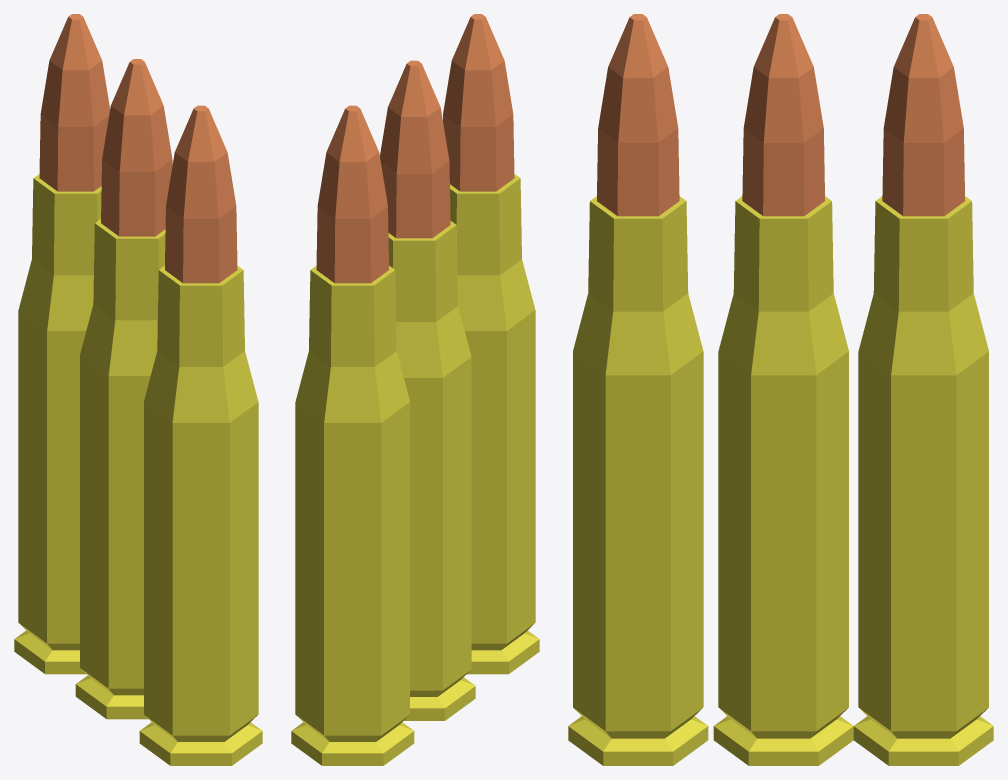
The model's file is Bullet.fbx.
The picture shows the model from 3 angles, left to right: view 1: azimuth 30°, elevation 25°; view 2: azimuth 150°, elevation 25°; view 3: azimuth 270°, elevation 25°; orthographic projection. The views are drawn at different scales.
Parts seen in each view (by area): view 1: Cylinder; view 2: Cylinder; view 3: Cylinder.
Boxes of the visible parts, x1,y1,x2,y2 form: Cylinder: (14, 14, 262, 765); Cylinder: (291, 14, 539, 765); Cylinder: (568, 14, 993, 765).
Size of the model in its own units: 652 by 1222 by 186.
